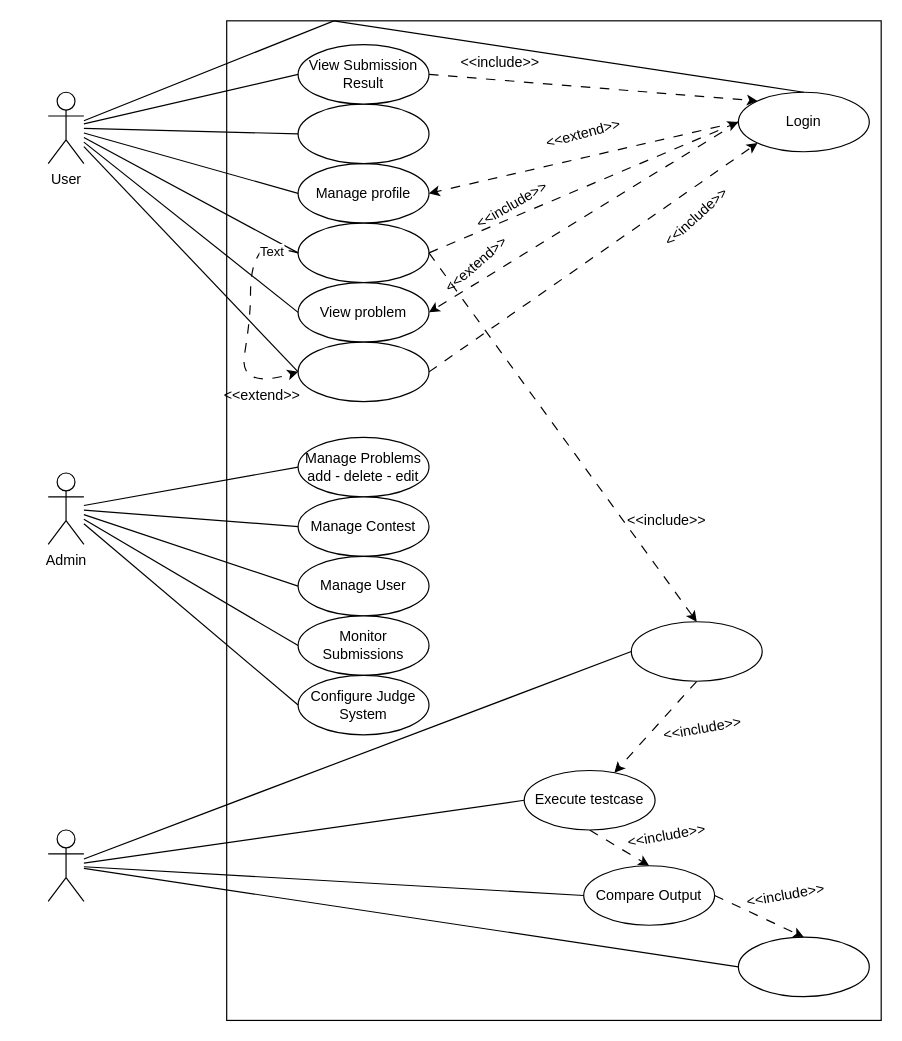
Some shapes in this 902 by 1041 pixel diagram are drawn without their labels. Each missing label, with the centre of its shape:
compile code: the point at 696,651
Join contest: the point at 363,371
Judge System: the point at 65,865
Register: the point at 363,133
Return Verdict: the point at 803,966
Submit code: the point at 363,252
